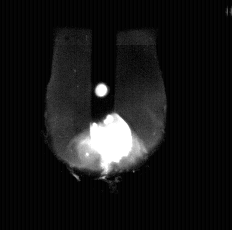arame: (92, 0, 115, 125)
poca: (44, 0, 167, 230)
